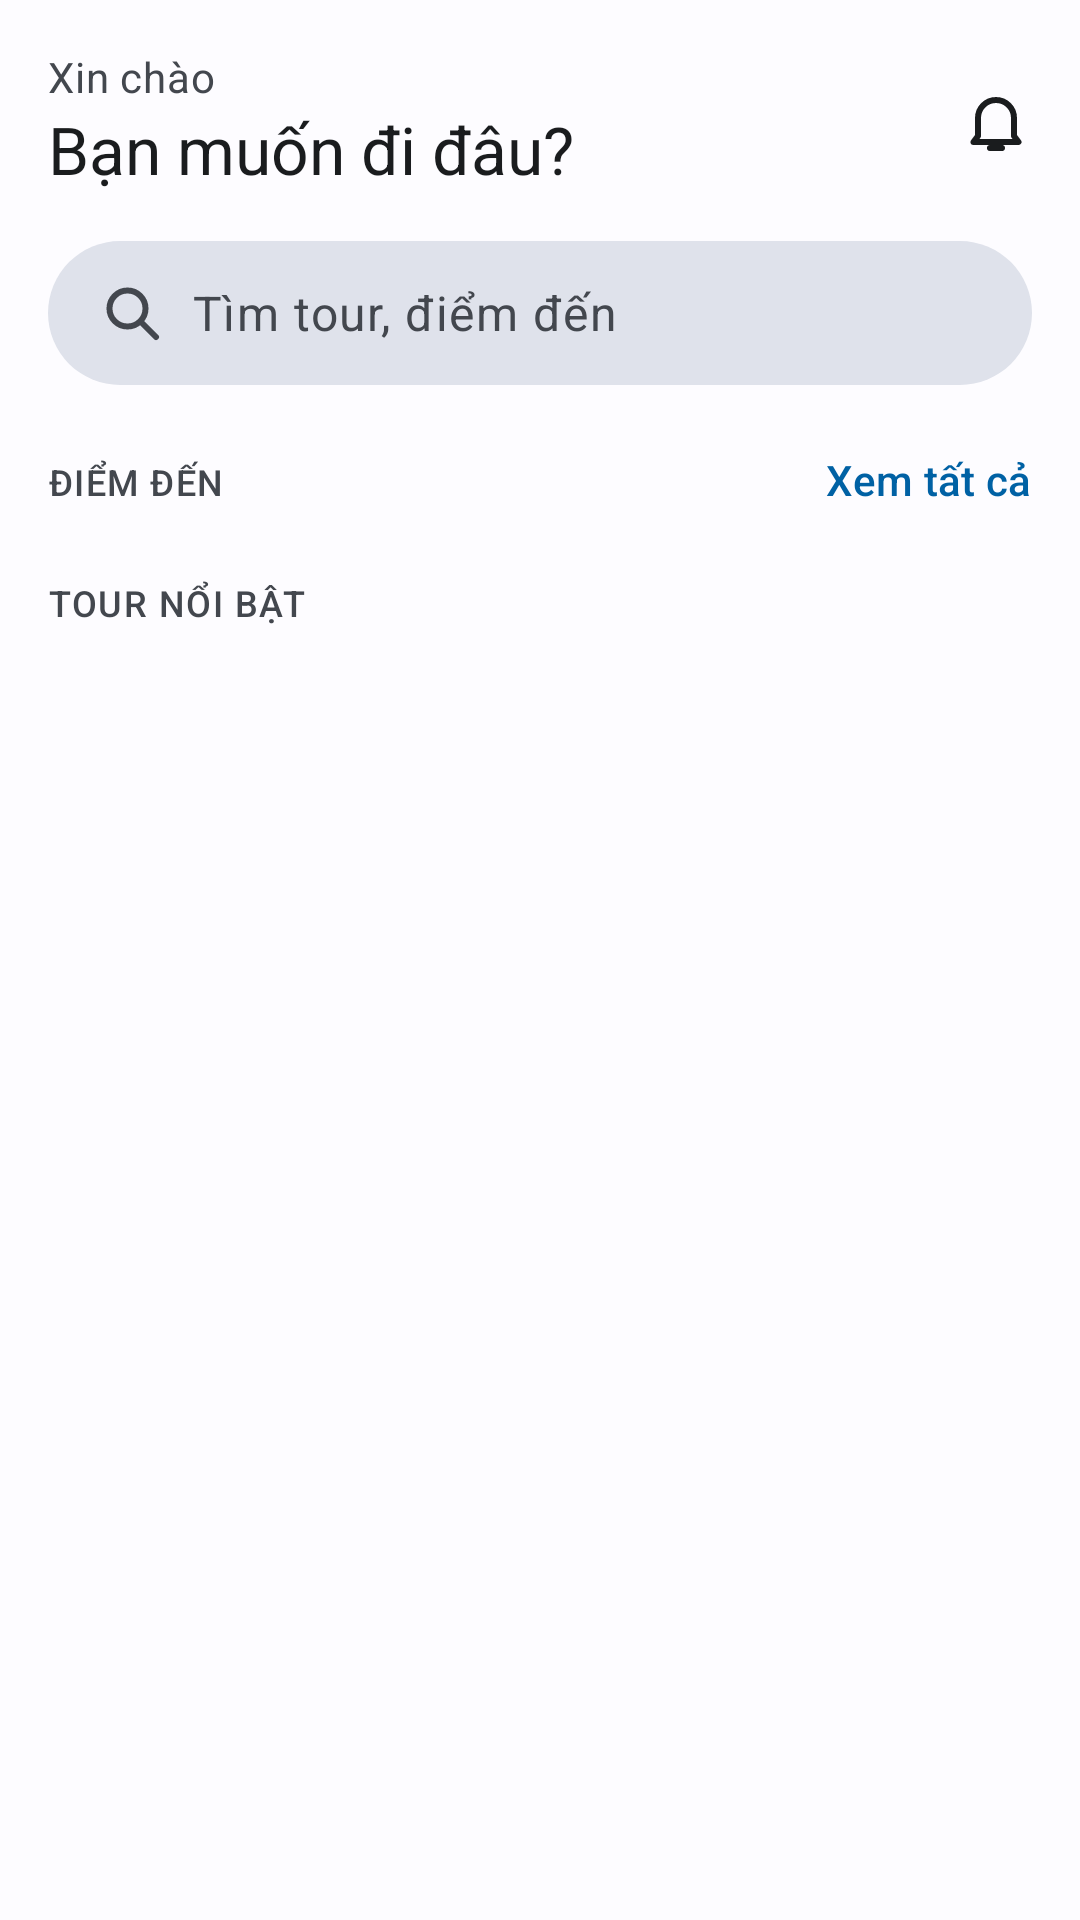

Locate icon controls on the screen. Image size 1080*1920, boxes as (x1=x1, y1=y1, x2=x2, y2=y2).
Thông báo: (x1=970, y1=97, x2=1022, y2=151)
